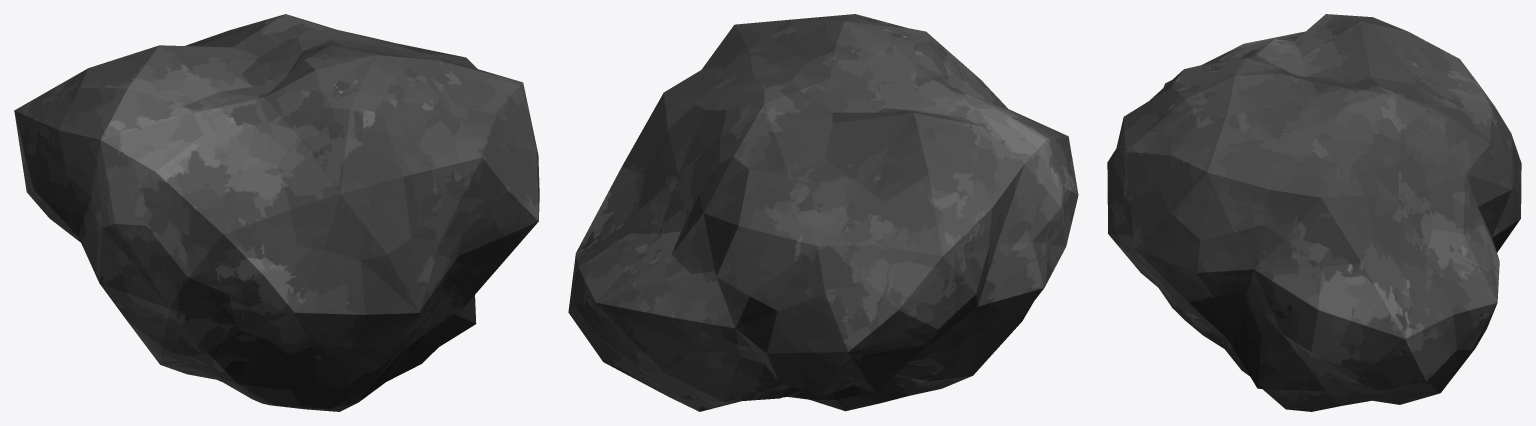
File: PaleRock5.glb
3 renders of one model, left to right at view 1: azimuth 30°, elevation 25°; view 2: azimuth 150°, elevation 25°; view 3: azimuth 270°, elevation 25°, orthographic. The views are drawn at different scales.
Visible parts, largest first — view 1: PaleRock5; view 2: PaleRock5; view 3: PaleRock5.
Part boxes in pixels (<box>): PaleRock5: <box>14,14,539,411</box>; PaleRock5: <box>568,14,1078,411</box>; PaleRock5: <box>1107,14,1521,411</box>.
Bounding box in the file's own units: 4.34 × 3.59 × 4.22.
1 material, 1 textured.
